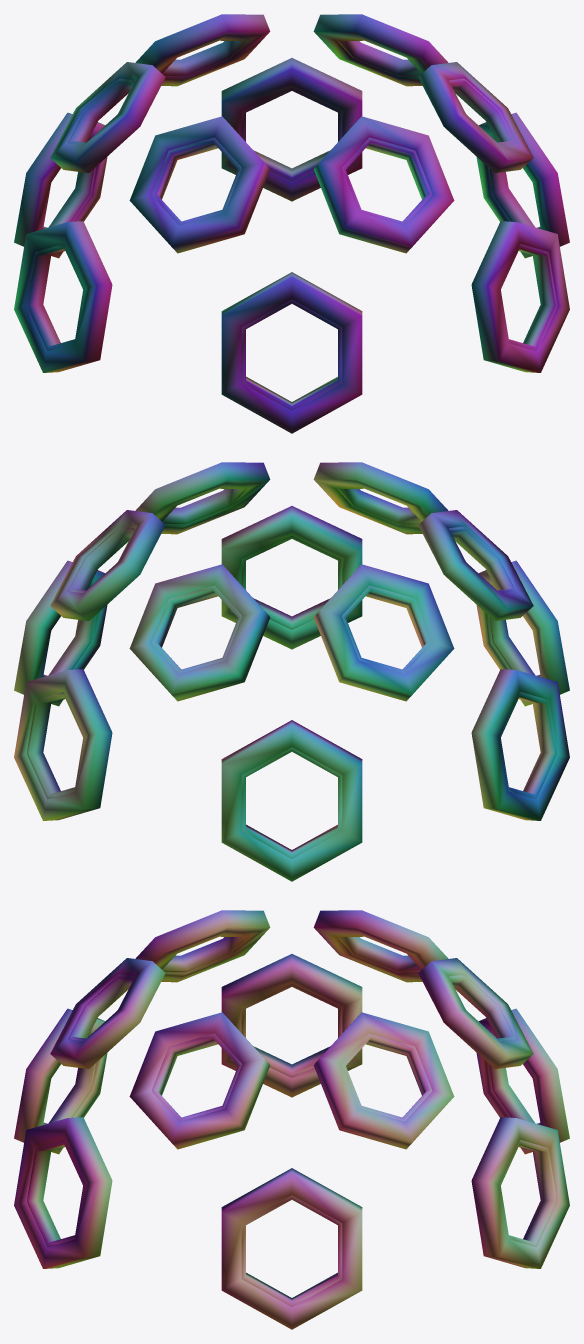
File: SM_FX_HexDome.fbx
3 views of the same model, one above another, from view 1: azimuth 30°, elevation 25°; view 2: azimuth 150°, elevation 25°; view 3: azimuth 270°, elevation 25° (orthographic).
Parts seen in each view (by area): view 1: SM_FX_HexDome; view 2: SM_FX_HexDome; view 3: SM_FX_HexDome.
Part boxes in pixels (bbox=[...]): SM_FX_HexDome: bbox=[14, 14, 569, 433]; SM_FX_HexDome: bbox=[14, 462, 569, 881]; SM_FX_HexDome: bbox=[14, 910, 569, 1329].
Size of the model in its own units: 1.94 by 0.9298 by 1.87.
